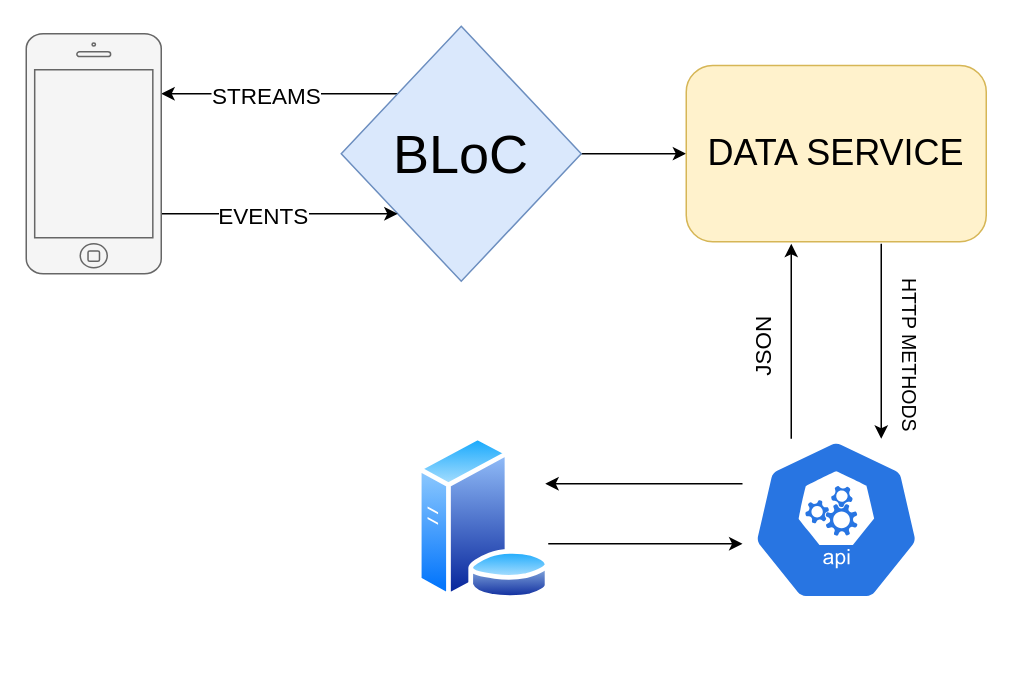
The diagram is 1013 pixels wide and 686 high, and some of its shapes have lost their labels. The shapes that lost their labels are listed below. From the top down, each one's centre as x and y in pixels, then its label:
At (x=93, y=153): "UI".
At (x=483, y=517): "Database Server".
